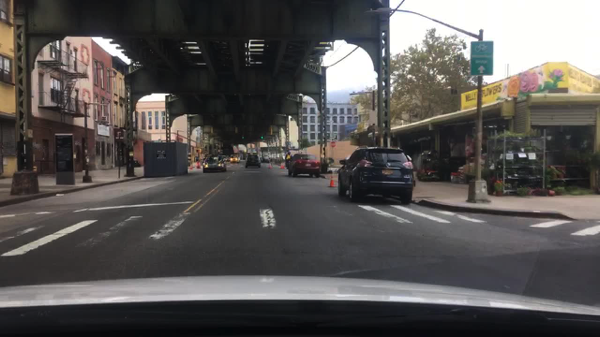car: (336, 145, 415, 206), (287, 153, 321, 179), (202, 155, 227, 173), (244, 154, 261, 168), (229, 154, 241, 163), (260, 154, 272, 163), (222, 155, 228, 162)
person: (285, 149, 290, 167)
traffic light: (233, 143, 236, 147), (261, 135, 263, 139), (242, 136, 244, 140)
traffic sign: (470, 41, 493, 76), (330, 141, 335, 147)
